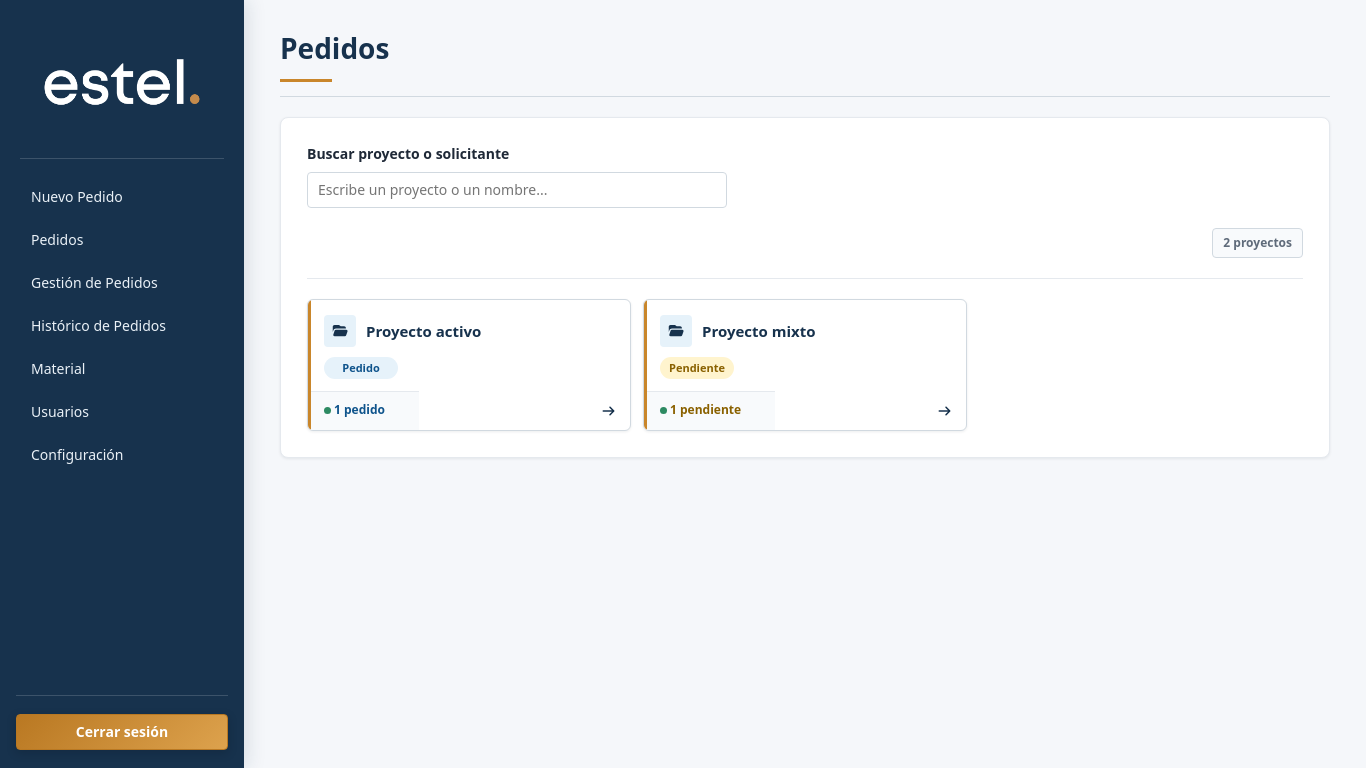
it: Pedidos excluye archivados de proyectos, contadores y detalles
Expected: the text "2 proyectos" is shown, [1212,228,1303,258]
What coordinates should you click on to do the following:
click the button with aria-label "Abrir Proyecto mixto, 1 pedidos"
I would click on:
 (676, 331)
Its box is [643,299,967,431].
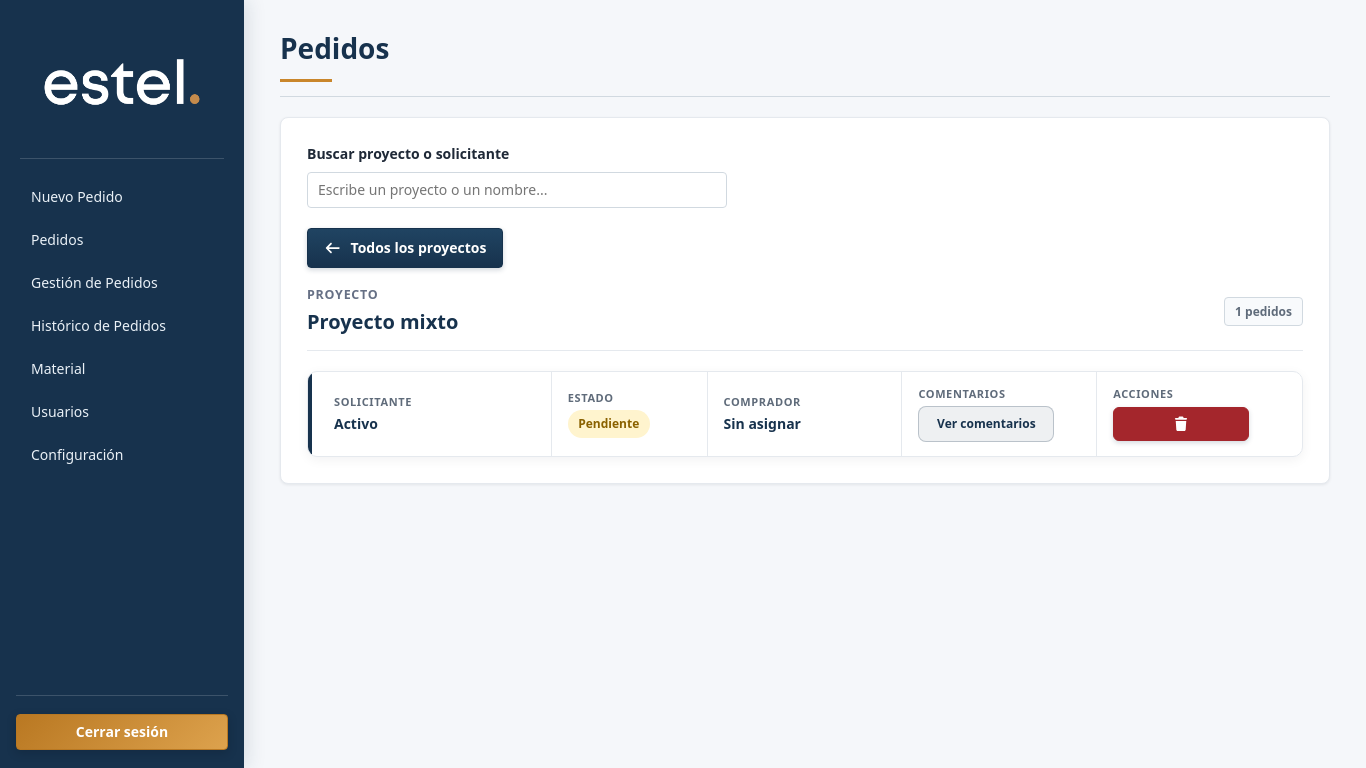
Expected: the text "Activo" is shown, [334,414,378,434]
